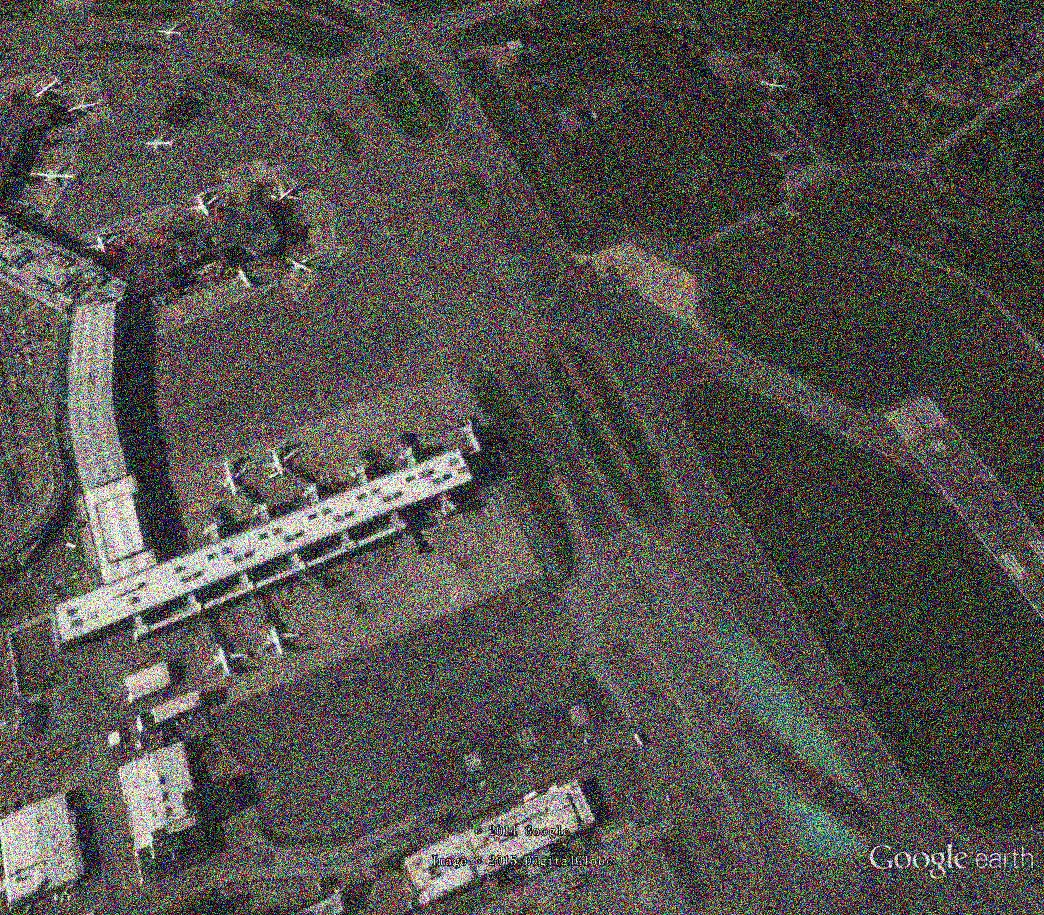aircraft: (199, 644, 254, 682), (254, 623, 306, 661), (24, 160, 82, 193), (254, 442, 305, 479), (209, 458, 253, 498), (228, 262, 270, 295), (183, 189, 226, 220), (82, 231, 129, 259), (286, 253, 322, 283), (63, 96, 103, 121), (141, 130, 178, 157), (273, 181, 309, 208), (36, 75, 69, 102), (157, 21, 189, 48), (756, 75, 792, 97)
